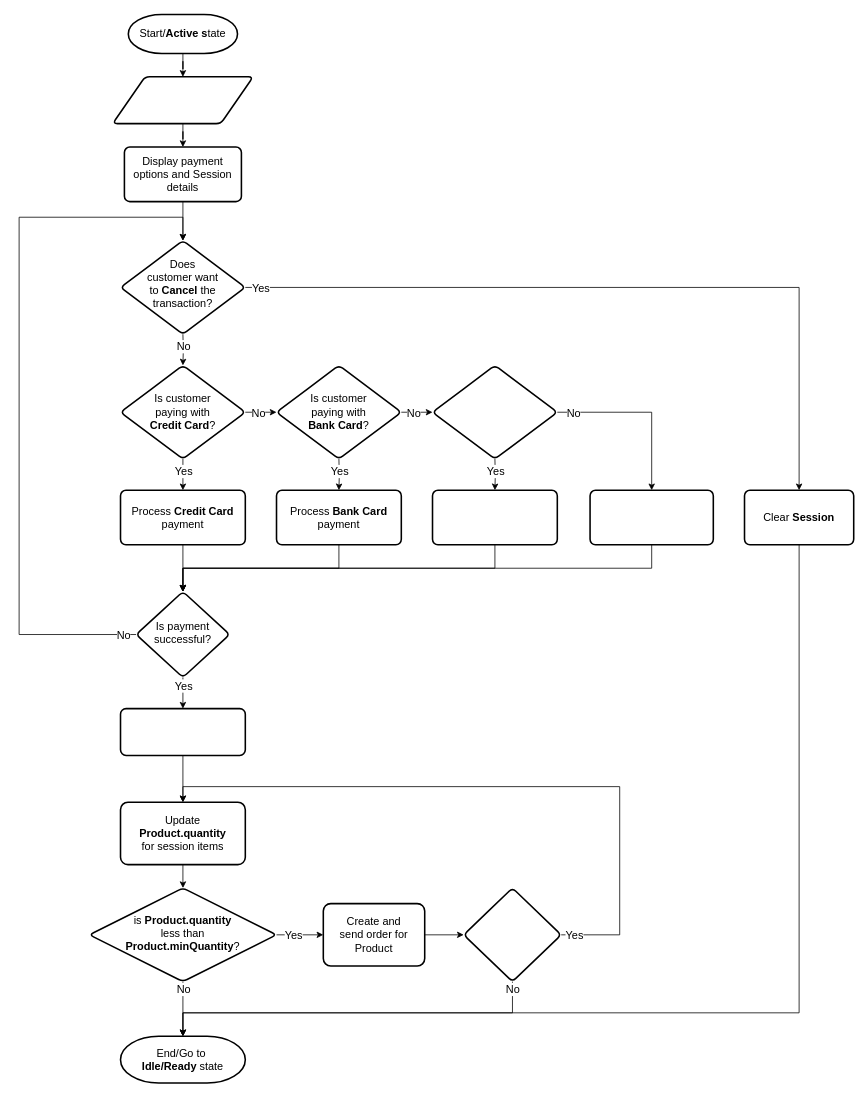
Image size: 868x1097. Some labels were removed from this diagram. Each missing label, with the centre of its shape:
are there more products to update?: the point at 512,934
Dispense session items to customer: the point at 182,731
Import and store Session: the point at 183,100
Is customer paying with NFC Phone ?: the point at 494,411
Process NFC Phone payment: the point at 494,517
Process Vending Machine App payment: the point at 651,517
